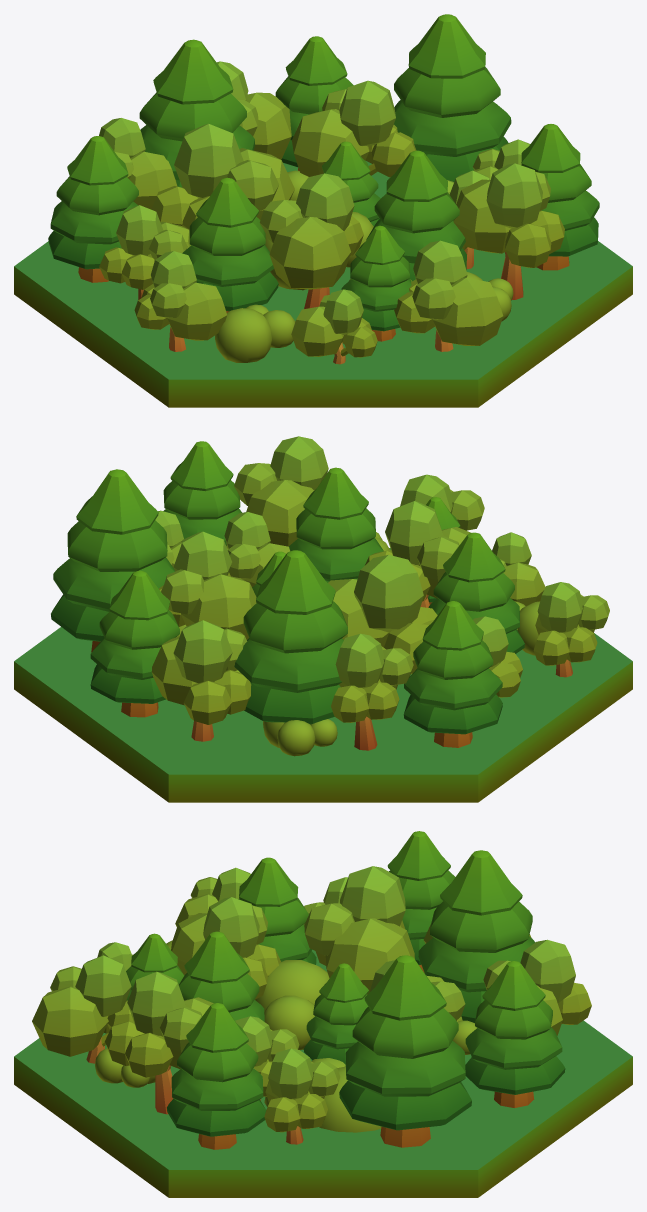
File: hex8.fbx
The picture shows the model from 3 angles, top to bottom: view 1: azimuth 30°, elevation 25°; view 2: azimuth 150°, elevation 25°; view 3: azimuth 270°, elevation 25°; orthographic projection.
Visible parts, largest first — view 1: hex_forest; view 2: hex_forest; view 3: hex_forest.
Boxes of the visible parts, x1=… form: hex_forest: x1=14, y1=14, x2=632, y2=407; hex_forest: x1=14, y1=436, x2=632, y2=802; hex_forest: x1=14, y1=831, x2=632, y2=1197.
Size of the model in its own units: 173 by 76.82 by 200.
